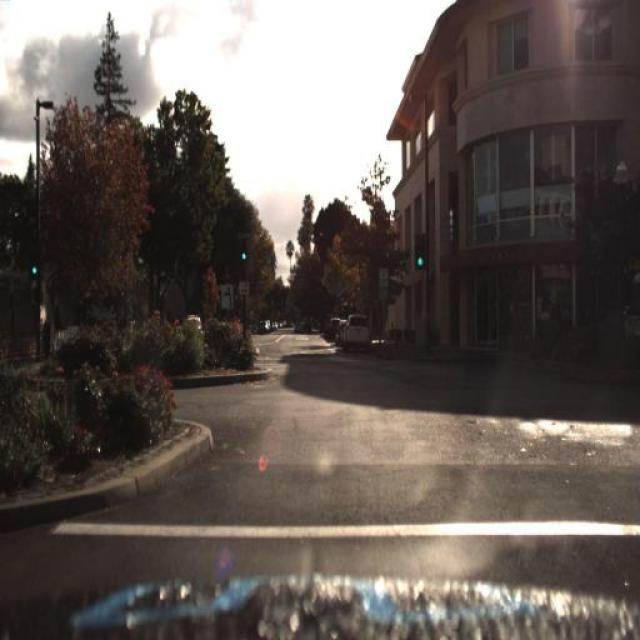car: (338, 317, 370, 362)
trafficLight: (546, 299, 562, 355)
trafficLight-Green: (24, 244, 42, 288), (231, 234, 249, 276), (412, 239, 427, 279)
trafficLight-GreenLeft: (239, 231, 250, 269), (26, 252, 36, 287)
